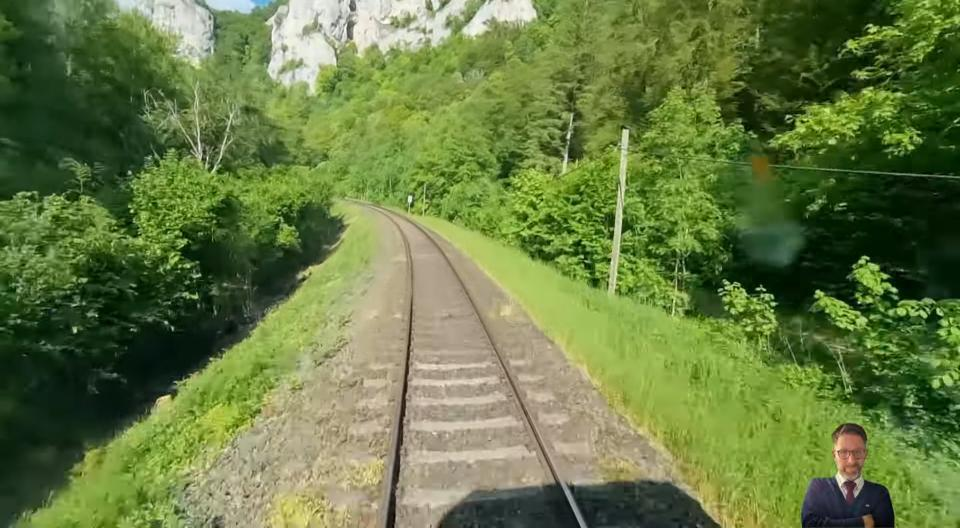Plant: (268, 493, 328, 528), (597, 456, 640, 483), (346, 457, 384, 487), (498, 301, 515, 316)
